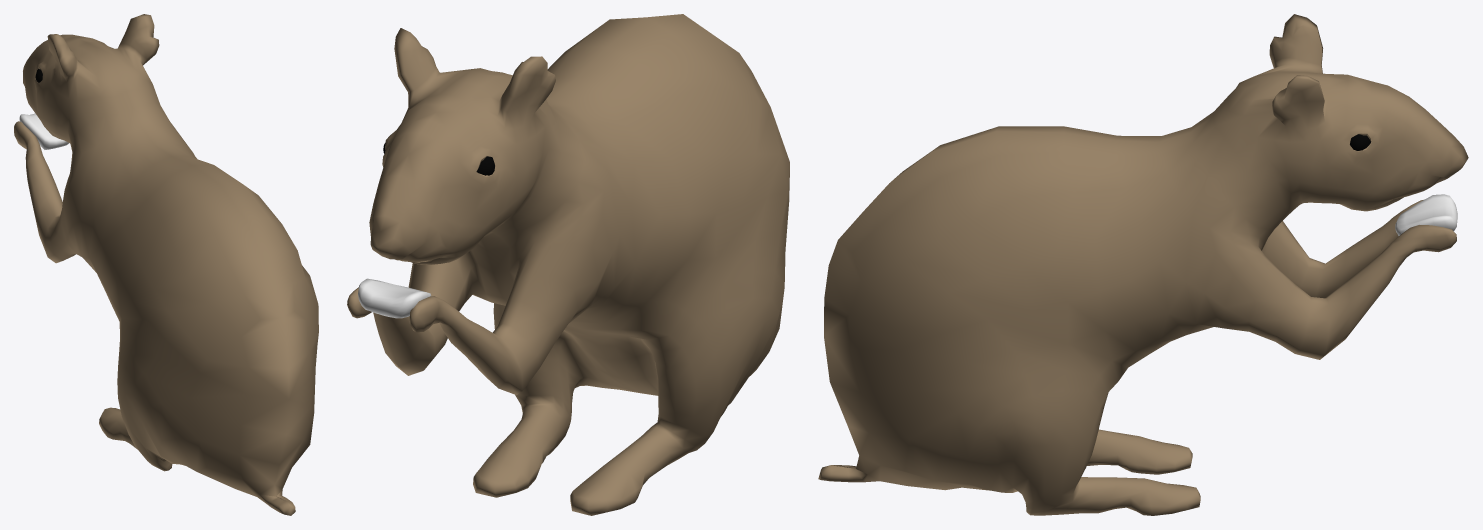
The model's file is AGOUTI_eat.fbx.
3 views of the same model, side by side, from view 1: azimuth 30°, elevation 25°; view 2: azimuth 150°, elevation 25°; view 3: azimuth 270°, elevation 25° (orthographic). The views are drawn at different scales.
Visible parts, largest first — view 1: agouti_eat, Cube; view 2: agouti_eat, Cube; view 3: agouti_eat, Cube.
Part boxes in pixels (x1,y1,x2,y2): agouti_eat: (14, 14, 318, 515); Cube: (19, 113, 68, 149); agouti_eat: (347, 14, 789, 515); Cube: (358, 278, 431, 318); agouti_eat: (818, 14, 1468, 515); Cube: (1395, 194, 1457, 235).
Size of the model in its own units: 429 by 849 by 1121.
